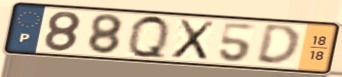5: (216, 21, 255, 64)
8: (84, 12, 125, 57), (43, 10, 83, 53)
D: (254, 24, 302, 68)
Q: (127, 13, 172, 62)
X: (169, 17, 218, 62)
